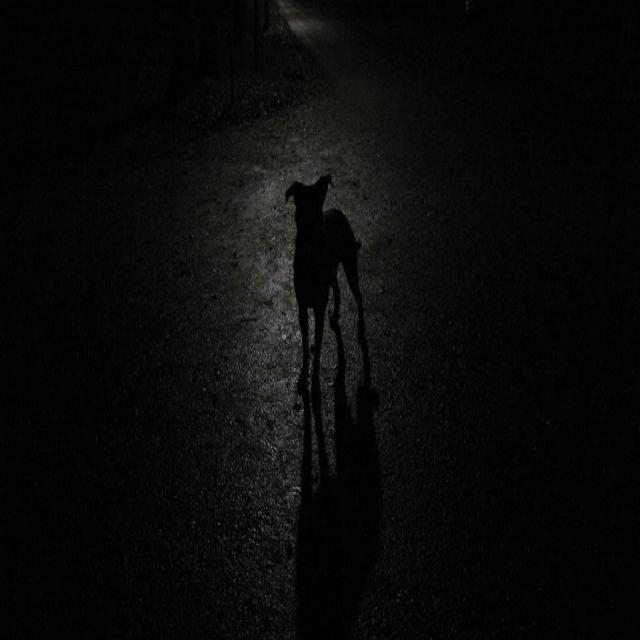dog: (276, 146, 377, 396), (445, 520, 446, 526)
